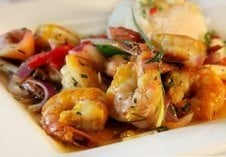salad: (0, 27, 36, 63)
